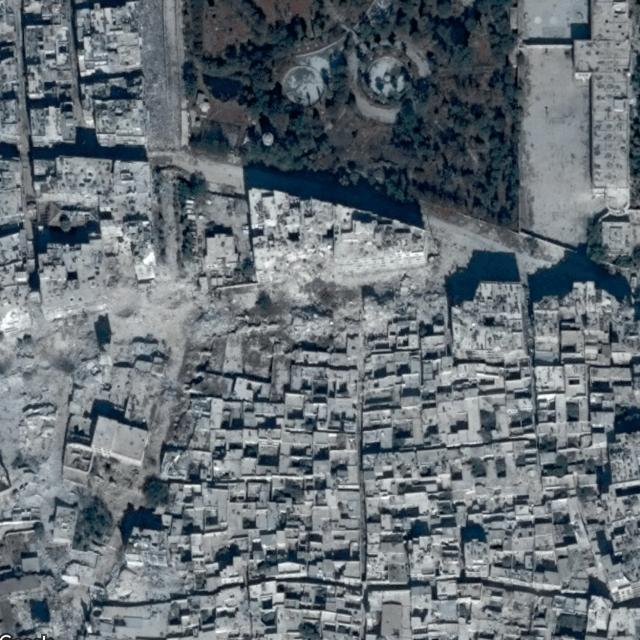damaged_building: (0, 235, 450, 519)
